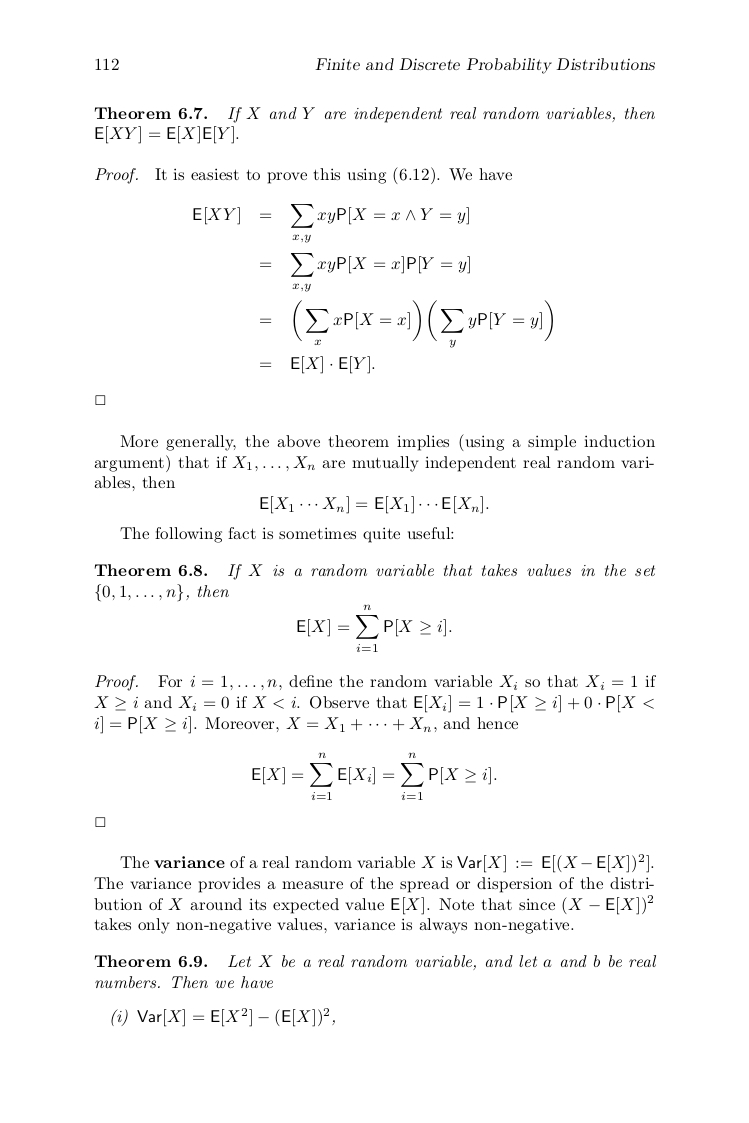formula: (260, 299, 552, 348), (252, 752, 496, 799), (193, 204, 468, 242), (260, 253, 469, 291), (260, 253, 468, 291), (297, 604, 451, 651), (260, 495, 488, 514), (111, 1008, 334, 1026), (260, 355, 374, 374)
